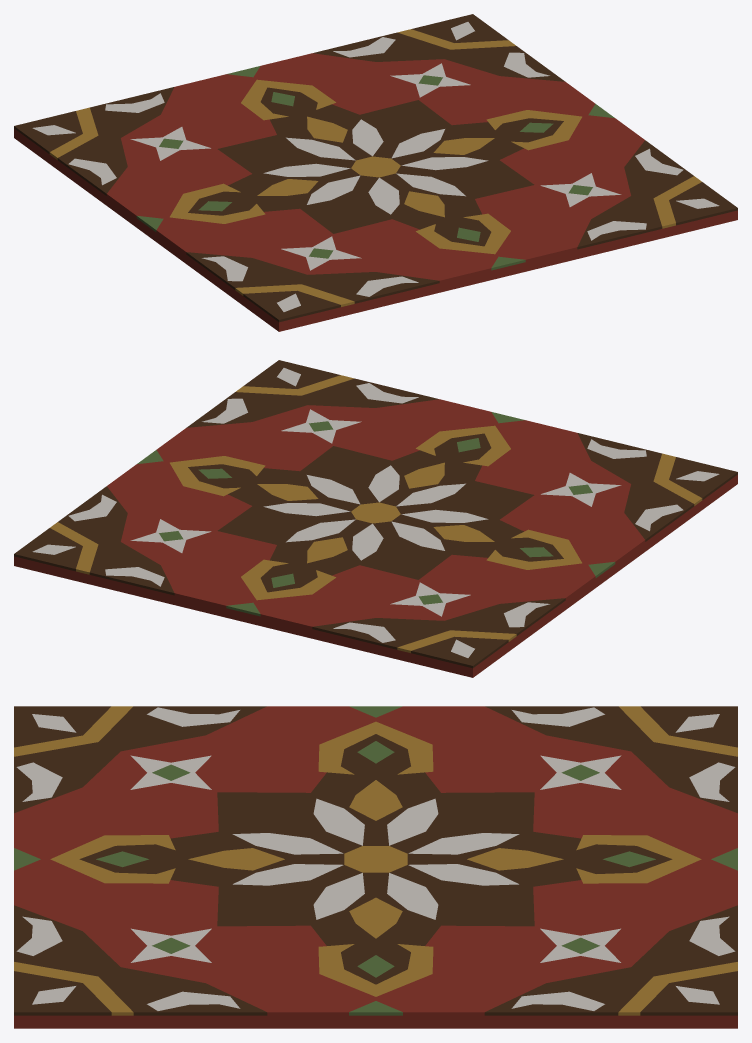
Rendered from patterned-casino-carpet-tile-4264c0.glb.
3 renders of one model, top to bottom at view 1: azimuth 30°, elevation 25°; view 2: azimuth 150°, elevation 25°; view 3: azimuth 270°, elevation 25°, orthographic. The views are drawn at different scales.
Visible parts, largest first — view 1: carpet-slab; view 2: carpet-slab; view 3: carpet-slab.
Boxes of the visible parts, x1,y1,x2,y2 form: carpet-slab: [14, 14, 737, 331]; carpet-slab: [14, 360, 737, 677]; carpet-slab: [14, 706, 737, 1028].
Size of the model in its own units: 2 by 0.05 by 2.
